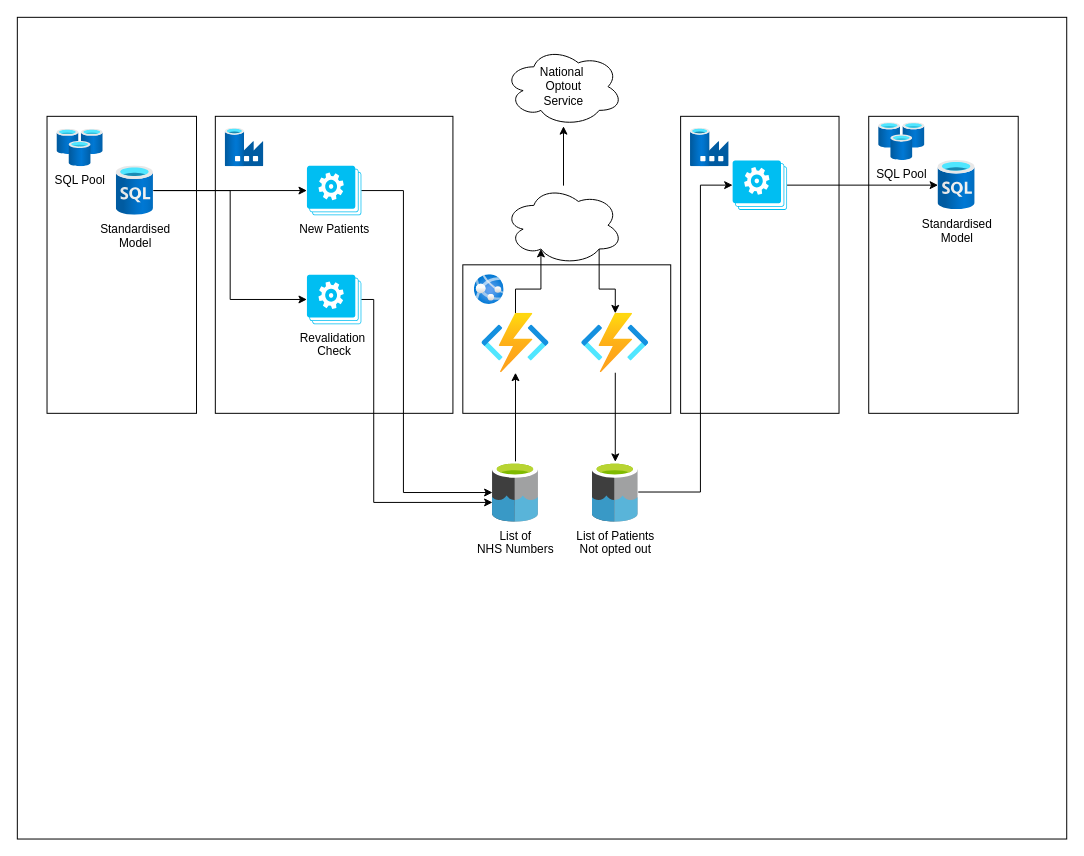
Some shapes in this 1084 by 856 pixel diagram are drawn without their labels. The centre of each missing label's shape, as x and y in pixels:
"MESH" goes at pixel 563 225.
"Opt out Reconcilliation" goes at pixel 759 184.
"Return Processor" goes at pixel 614 342.
"Validation Upload" goes at pixel 515 342.
